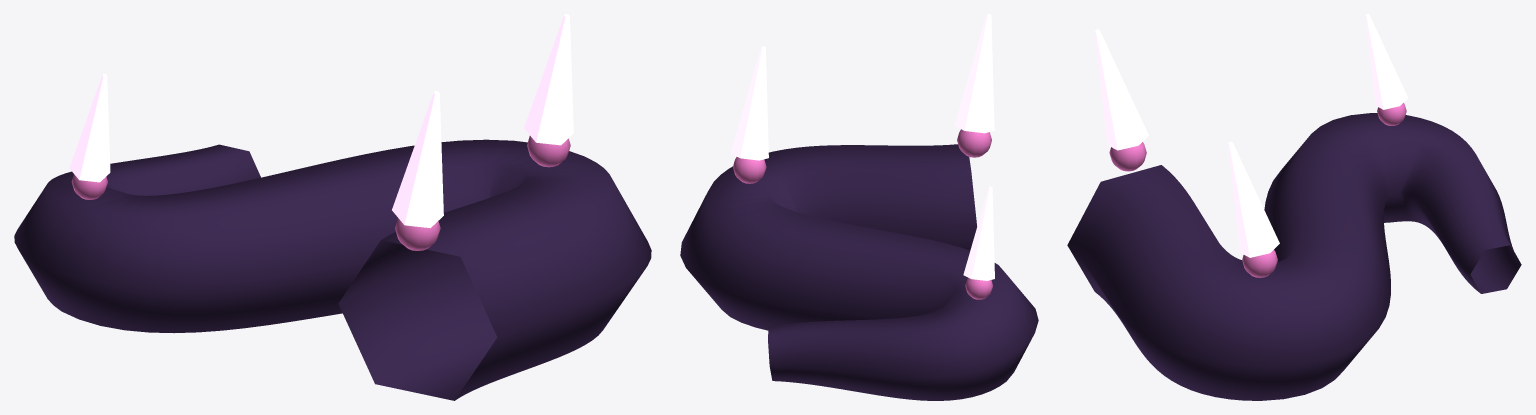
Rendered from SM_Keeper_Apep_Body_F15.fbx.
3 renders of one model, left to right at view 1: azimuth 30°, elevation 25°; view 2: azimuth 150°, elevation 25°; view 3: azimuth 270°, elevation 25°, orthographic. The views are drawn at different scales.
Visible parts, largest first — view 1: SM_Keeper_Apep_Body_F15; view 2: SM_Keeper_Apep_Body_F15; view 3: SM_Keeper_Apep_Body_F15.
Boxes of the visible parts, x1=… form: SM_Keeper_Apep_Body_F15: x1=14, y1=14, x2=651, y2=400; SM_Keeper_Apep_Body_F15: x1=680, y1=14, x2=1038, y2=400; SM_Keeper_Apep_Body_F15: x1=1067, y1=14, x2=1521, y2=400.
Bounding box in the file's own units: 6.95 × 4.37 × 6.55.
